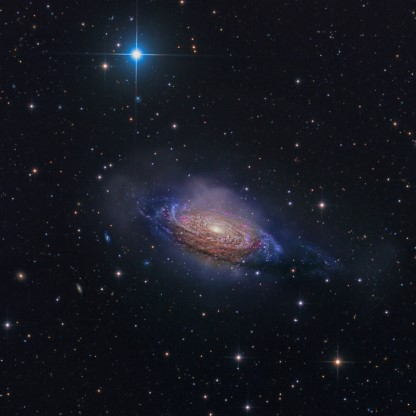NGC 3521: (103, 156, 344, 305)
